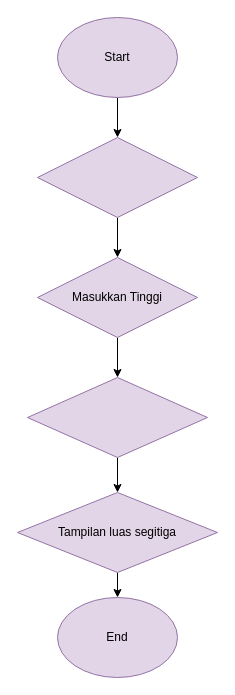
Some shapes in this 235 by 695 pixel diagram are drawn without their labels. The box of each missing label's shape, as (x1, y1, x2, y2) in pixels:
Luas=1/2*(alas*tinggi): (26, 376, 208, 458)
Masukkan alas: (36, 136, 198, 218)
